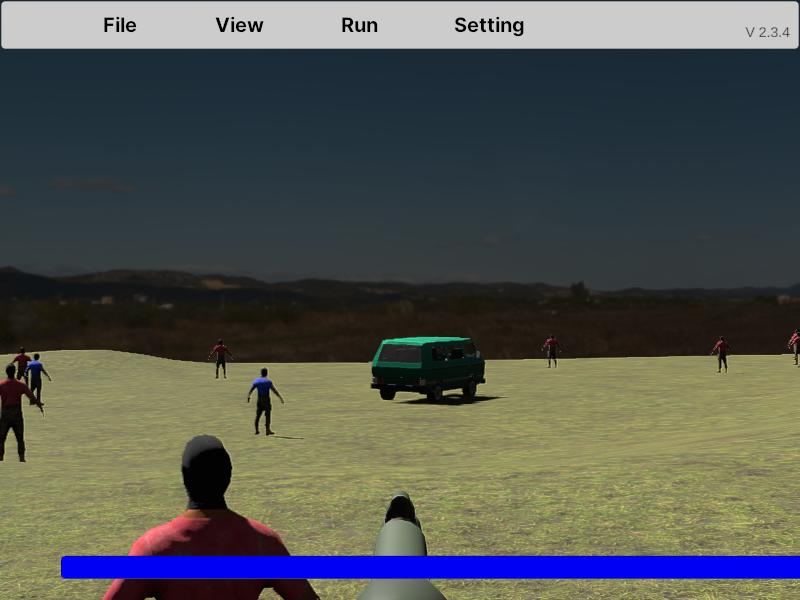Human: (0, 363, 43, 466), (248, 366, 284, 435)
car: (371, 336, 486, 403)
